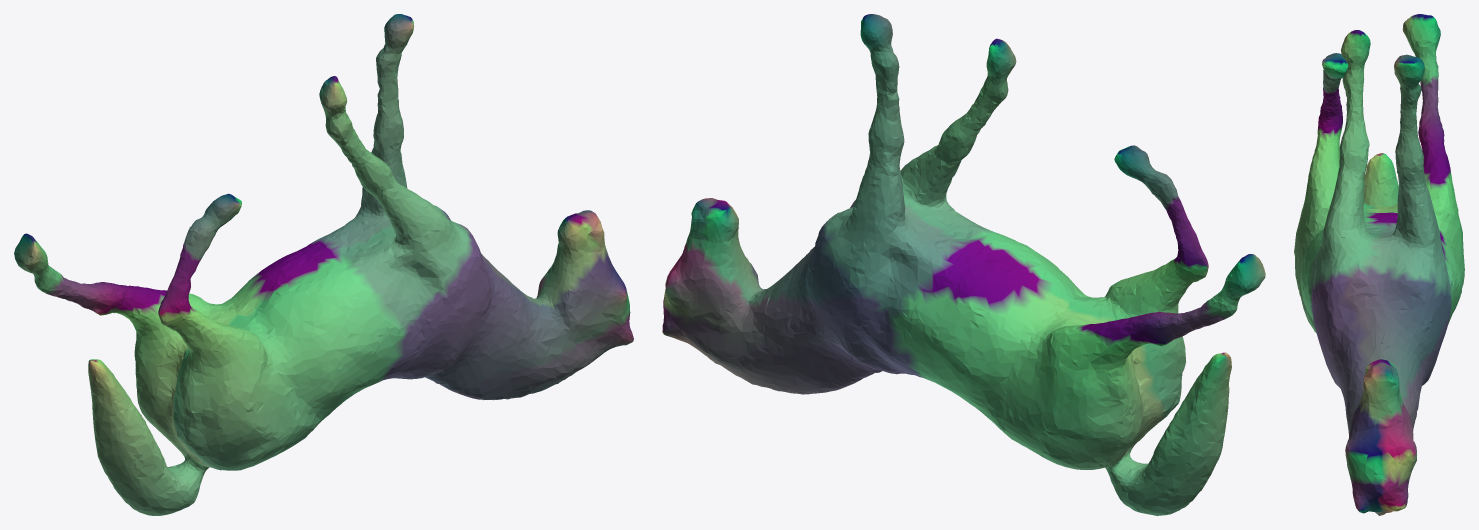
The model's file is horse-2.off.obj.
3 views of the same model, side by side, from view 1: azimuth 30°, elevation 25°; view 2: azimuth 150°, elevation 25°; view 3: azimuth 270°, elevation 25° (orthographic). The views are drawn at different scales.
Bounding box in the file's own units: 1.68 × 1.16 × 0.4252.
